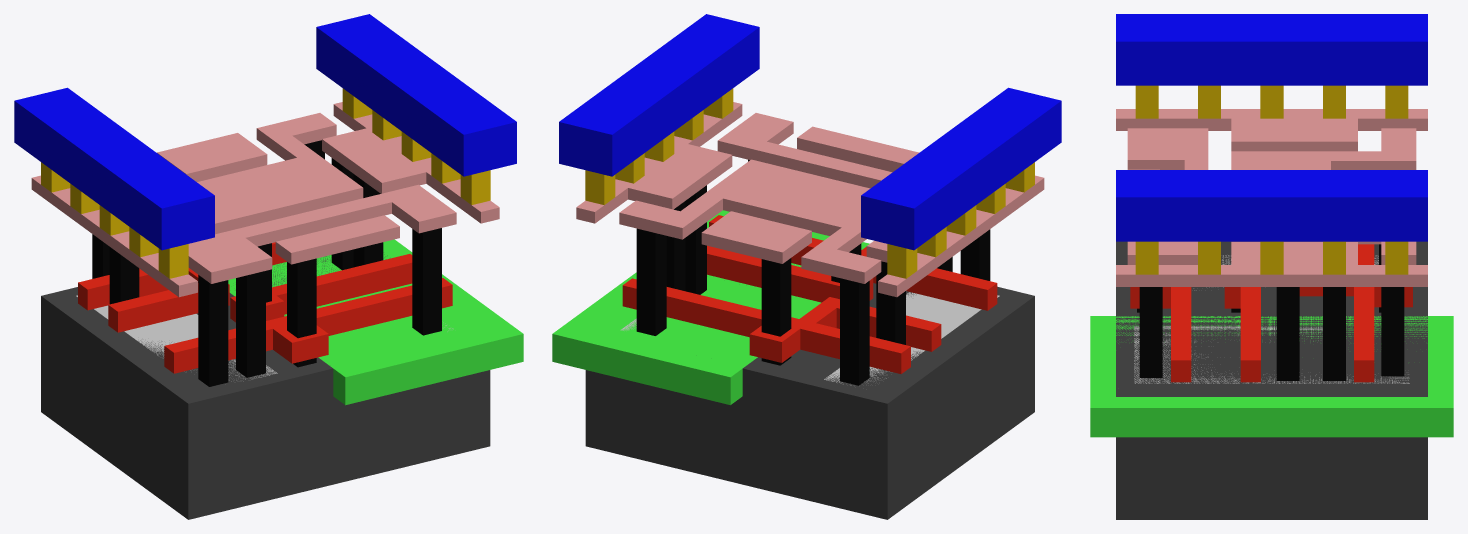
The model's file is sky130_fd_sc_hd__einvp_1.obj.
3 views of the same model, side by side, from view 1: azimuth 30°, elevation 25°; view 2: azimuth 150°, elevation 25°; view 3: azimuth 270°, elevation 25° (orthographic). The views are drawn at different scales.
Visible parts, largest first — view 1: subs, li, metal1, licon, nwell, poly, mcon, diff; view 2: subs, li, metal1, poly, nwell, licon, mcon, diff; view 3: subs, metal1, li, nwell, licon, mcon, poly, tap.
Part boxes in pixels (bbox=[...]): subs: bbox=[41, 254, 490, 519]; li: bbox=[31, 102, 499, 297]; metal1: bbox=[14, 14, 516, 250]; licon: bbox=[92, 140, 441, 386]; nwell: bbox=[228, 239, 523, 405]; poly: bbox=[78, 242, 452, 373]; mcon: bbox=[41, 88, 490, 278]; diff: bbox=[76, 295, 277, 381]; subs: bbox=[585, 283, 1034, 519]; li: bbox=[576, 102, 1044, 297]; metal1: bbox=[559, 14, 1061, 250]; poly: bbox=[622, 215, 997, 373]; nwell: bbox=[552, 210, 869, 405]; licon: bbox=[636, 159, 990, 385]; mcon: bbox=[585, 88, 1034, 278]; diff: bbox=[824, 292, 999, 385]; subs: bbox=[1116, 241, 1427, 519]; metal1: bbox=[1116, 14, 1427, 241]; li: bbox=[1116, 109, 1427, 286]; nwell: bbox=[1090, 316, 1453, 437]; licon: bbox=[1137, 244, 1404, 380]; mcon: bbox=[1135, 85, 1408, 274]; poly: bbox=[1130, 244, 1412, 382]; tap: bbox=[1134, 326, 1409, 383].
Size of the model in its own units: 3.2 by 2.74 by 2.68.
